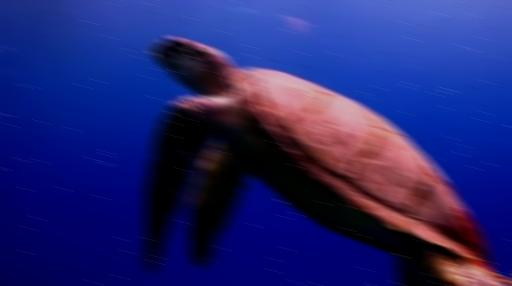Fish: (146, 36, 510, 285)
